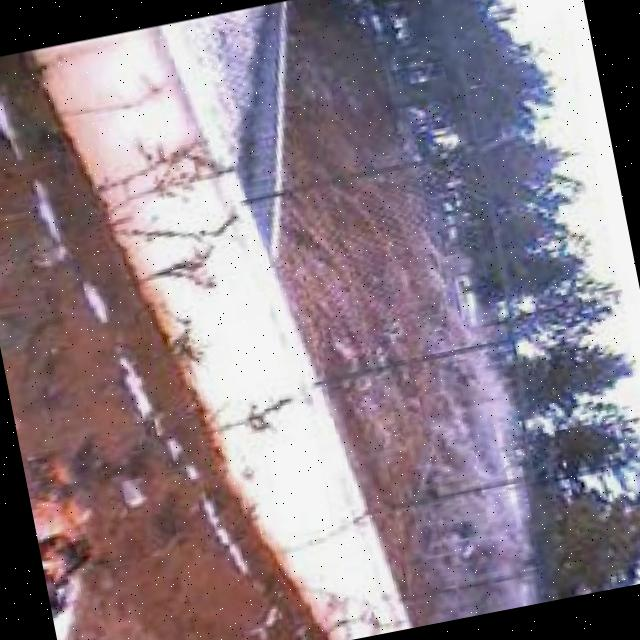fire: (22, 450, 113, 622)
